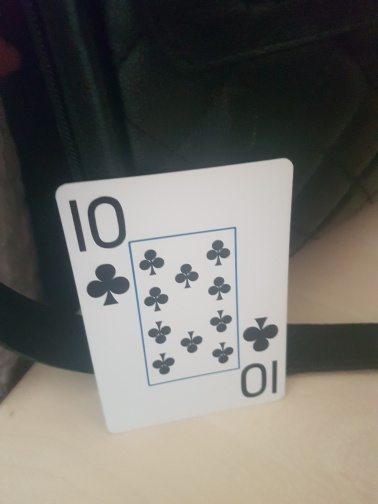ten: (54, 156, 295, 433)
